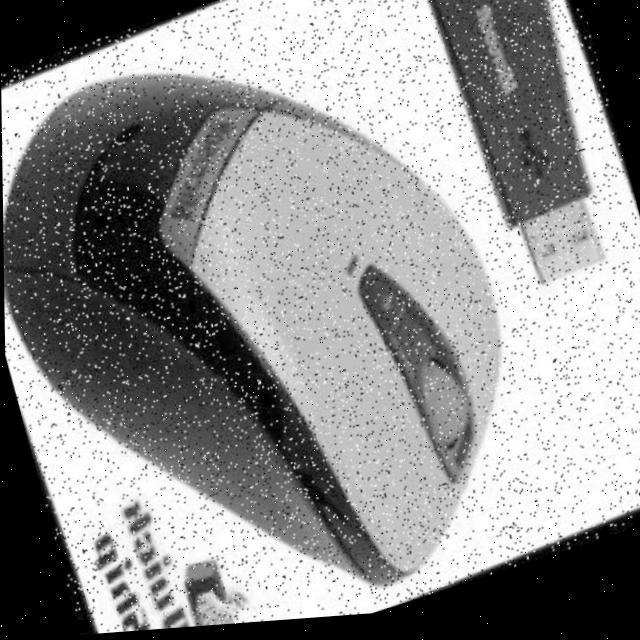mause: (0, 0, 619, 640)
